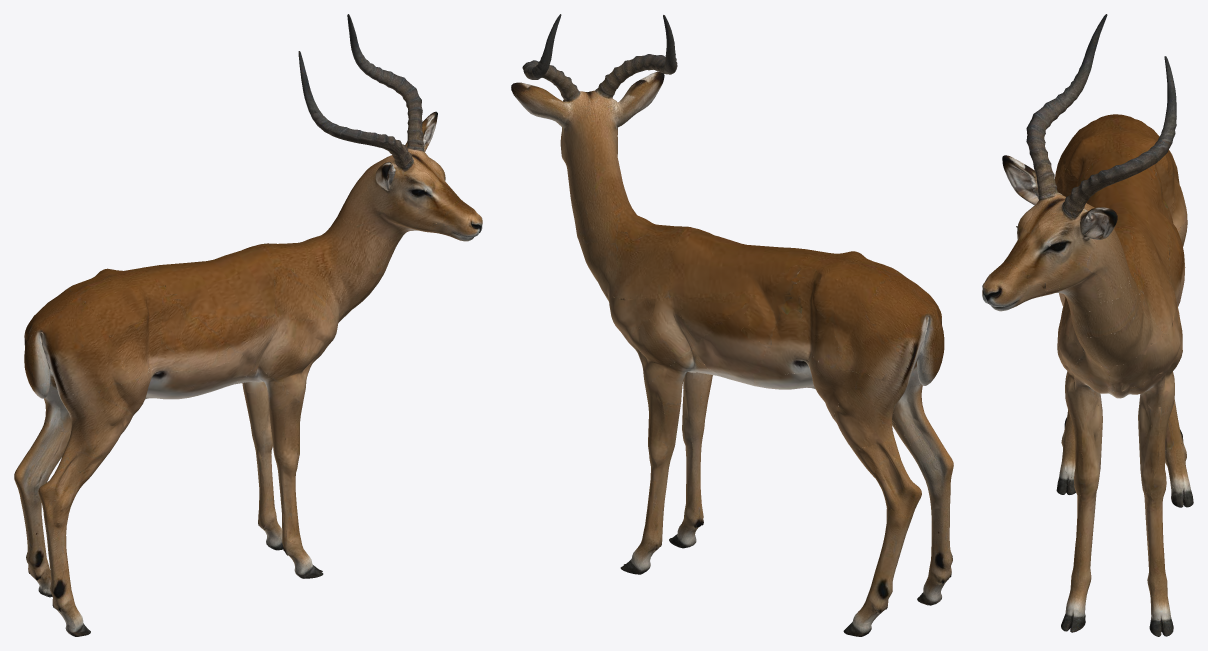
File: antelope.glb
3 renders of one model, left to right at view 1: azimuth 30°, elevation 25°; view 2: azimuth 150°, elevation 25°; view 3: azimuth 270°, elevation 25°, orthographic. The views are drawn at different scales.
Parts seen in each view (by area): view 1: Mesh_0; view 2: Mesh_0; view 3: Mesh_0.
Boxes of the visible parts, x1,y1,x2,y2 form: Mesh_0: (14,14,482,636); Mesh_0: (511,14,953,636); Mesh_0: (982,14,1193,636).
Size of the model in its own units: 1.3 by 1.55 by 0.4828.
Materials: 1 (1 with a texture image).
